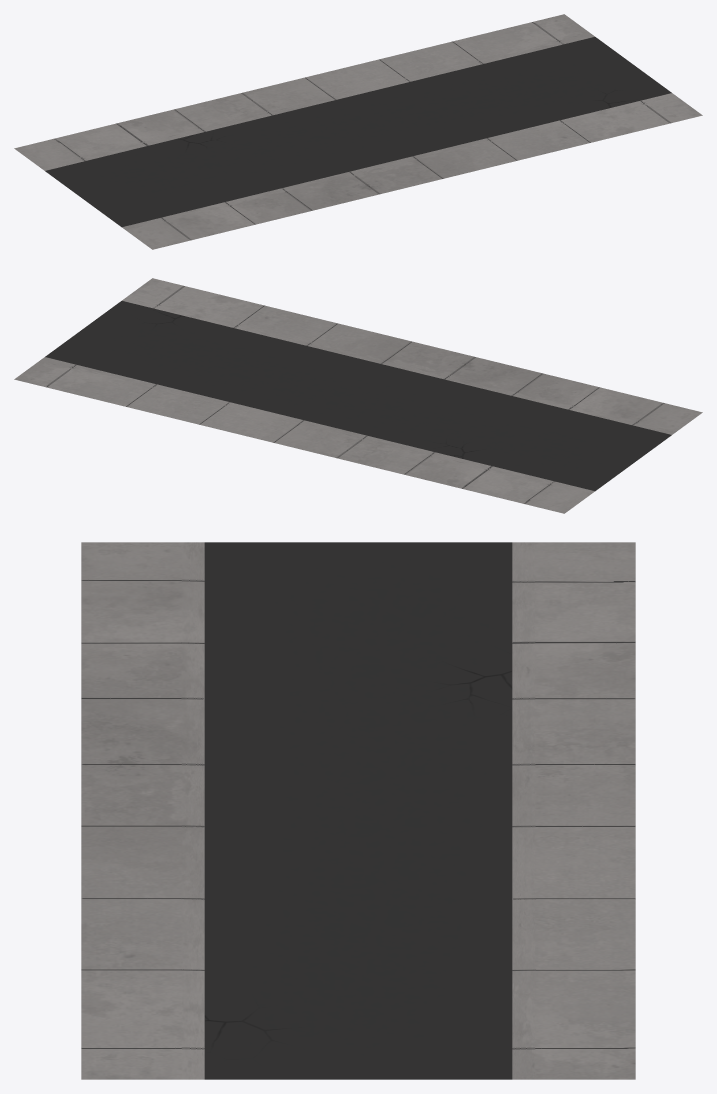
File: Road_Long_Flat.fbx
3 views of the same model, one above another, from view 1: azimuth 30°, elevation 25°; view 2: azimuth 150°, elevation 25°; view 3: azimuth 270°, elevation 25° (orthographic). The views are drawn at different scales.
Visible parts, largest first — view 1: Road_Long001; view 2: Road_Long001; view 3: Road_Long001.
Boxes of the visible parts, bbox=[...] form: Road_Long001: bbox=[14, 14, 702, 249]; Road_Long001: bbox=[14, 278, 702, 513]; Road_Long001: bbox=[81, 542, 635, 1079].
Bounding box in the file's own units: 1300 × 567 × 0.0404.
